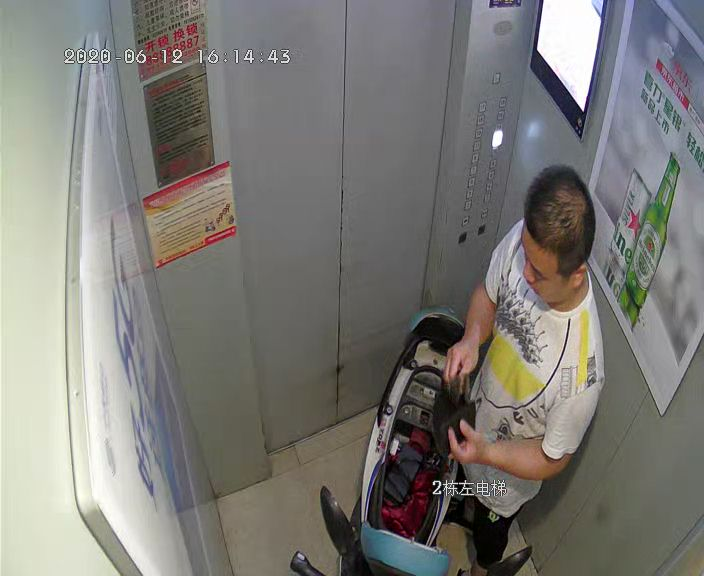Electric-bicycle: (291, 309, 531, 574)
